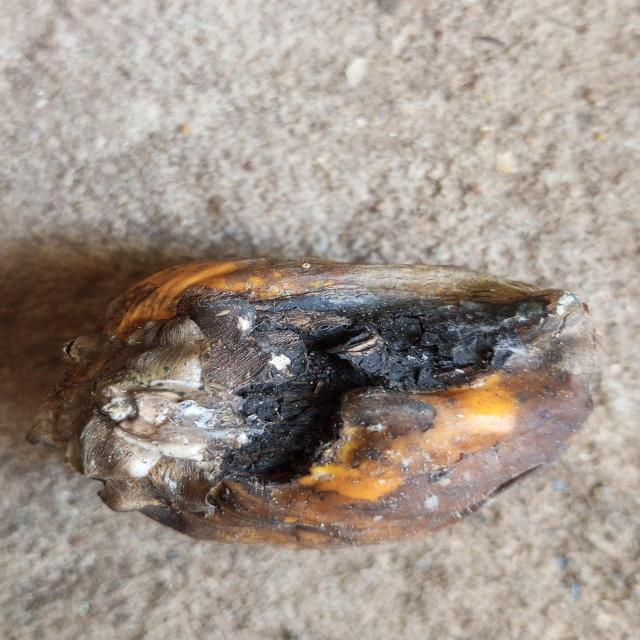damaged: (40, 258, 596, 552)
